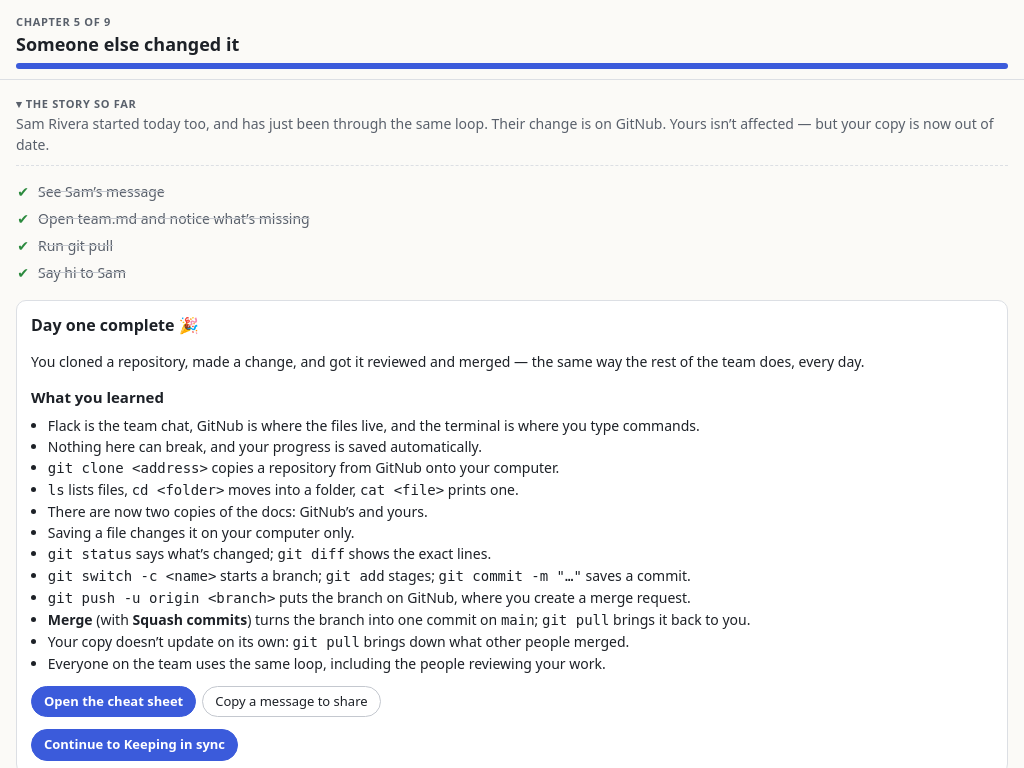
Test: Day one complete › continues into Keeping in sync
The image size is (1024, 768).
Click the button "Continue to Keeping in sync". click: click(134, 745)
box: [31,729,238,760]
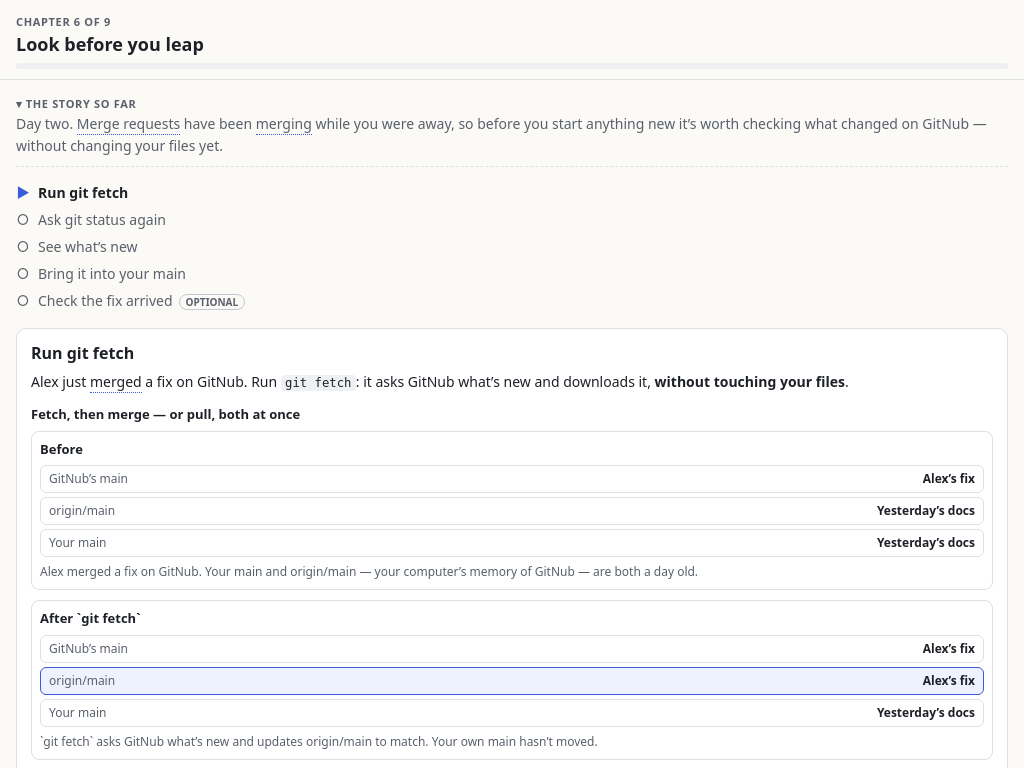
Expected: the heading "Look before you leap" is shown, [16,32,204,56]
